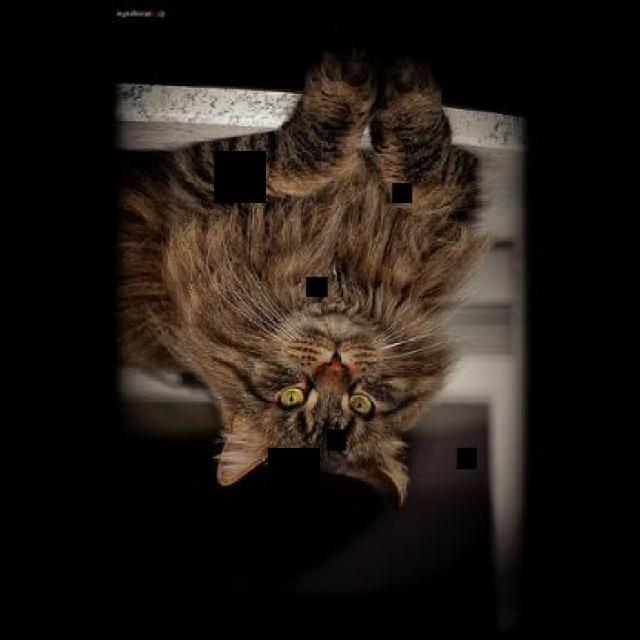unauthorized: (115, 45, 494, 509)
